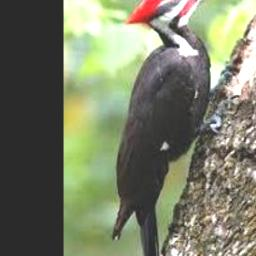Woodpecker: (113, 0, 232, 256)
